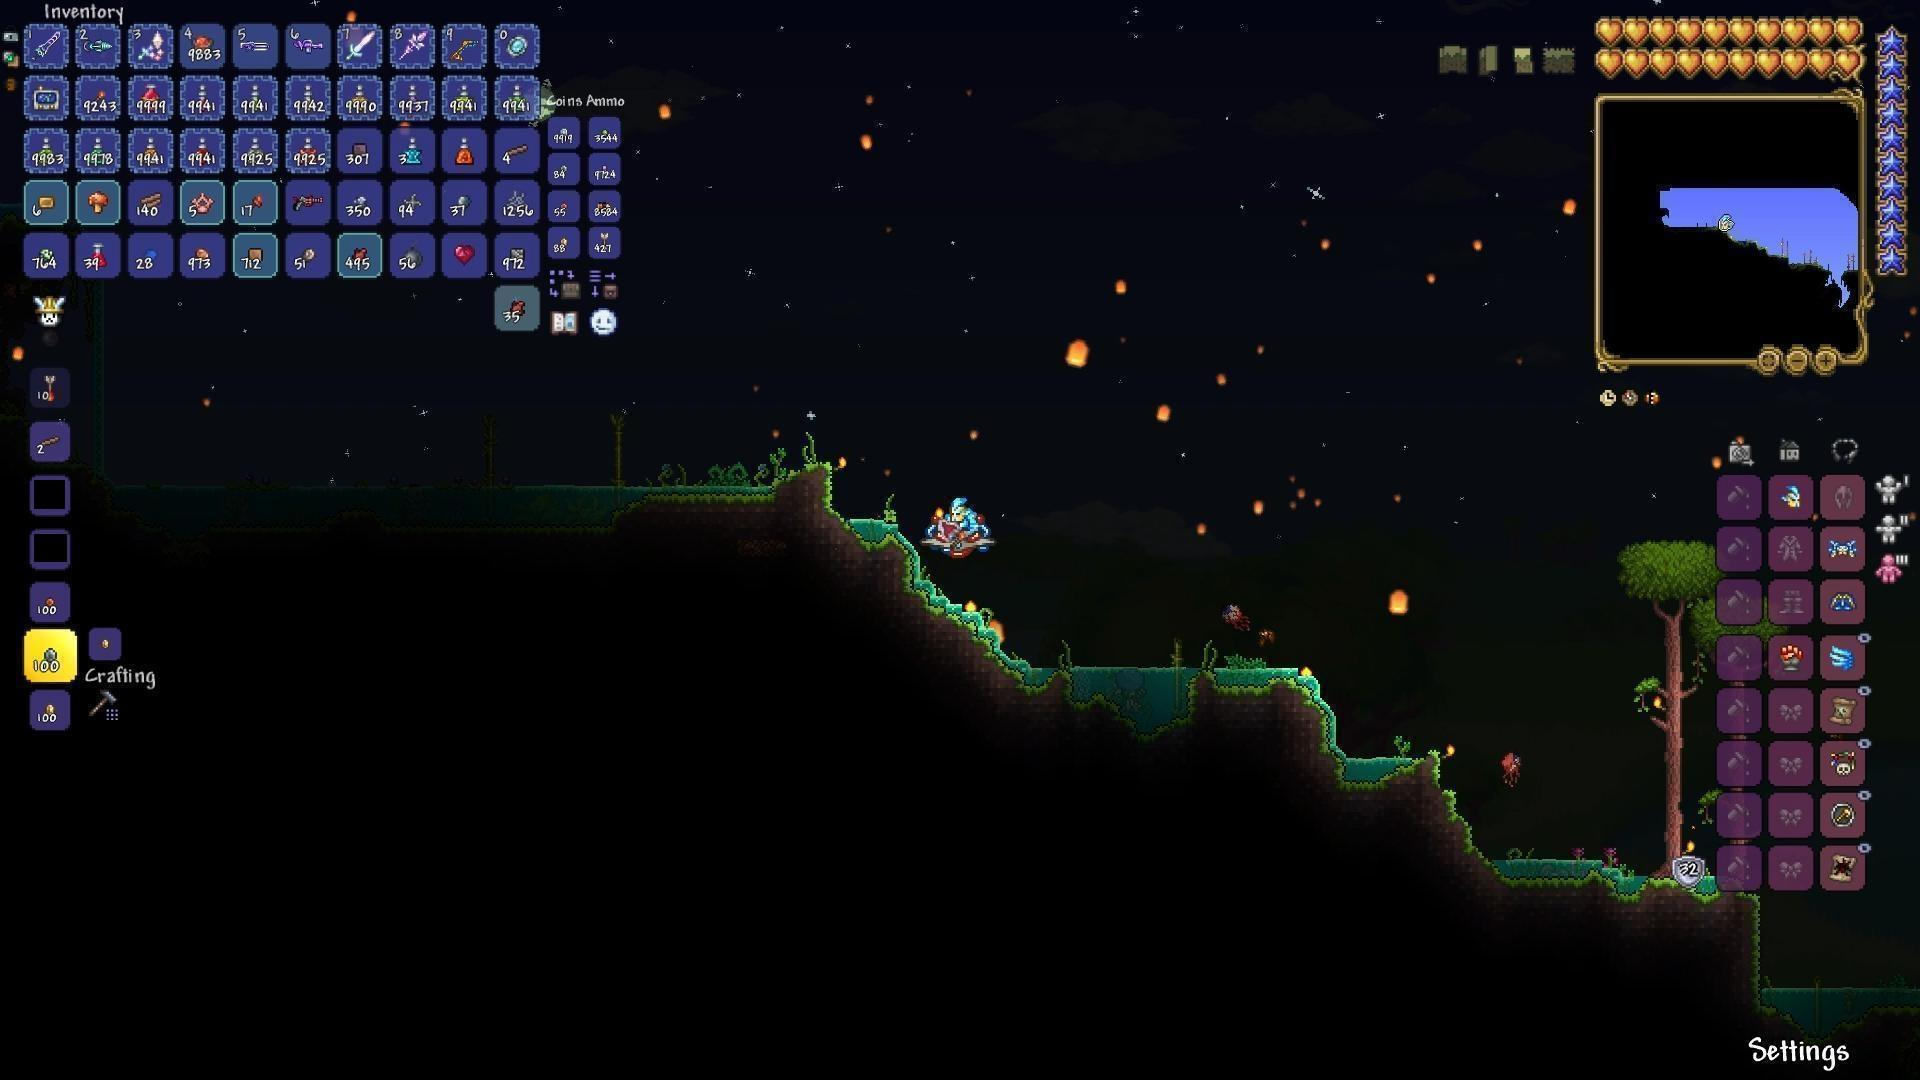wood: (133, 186, 164, 214)
